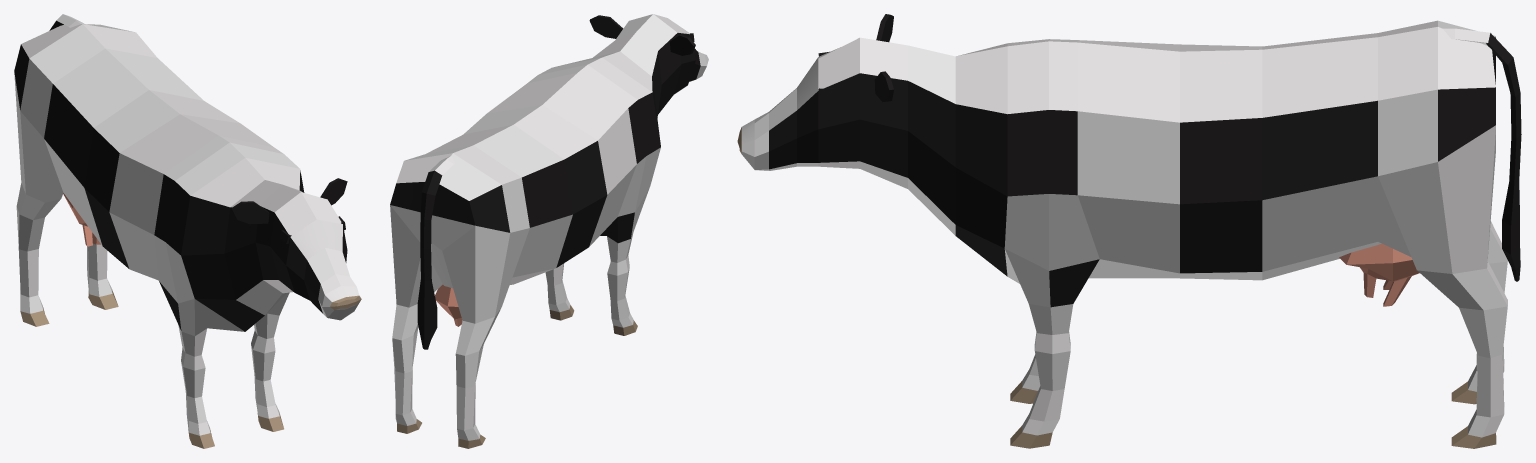
File: cow.obj
3 renders of one model, left to right at view 1: azimuth 30°, elevation 25°; view 2: azimuth 150°, elevation 25°; view 3: azimuth 270°, elevation 25°, orthographic. The views are drawn at different scales.
Parts seen in each view (by area): view 1: Geo_Cow; view 2: Geo_Cow; view 3: Geo_Cow.
Part boxes in pixels (<box>): Geo_Cow: <box>14,14,361,448</box>; Geo_Cow: <box>390,14,708,448</box>; Geo_Cow: <box>737,14,1521,448</box>.
Size of the model in its own units: 7.28 by 14.58 by 26.37.
Materials: 2 (1 with a texture image).
